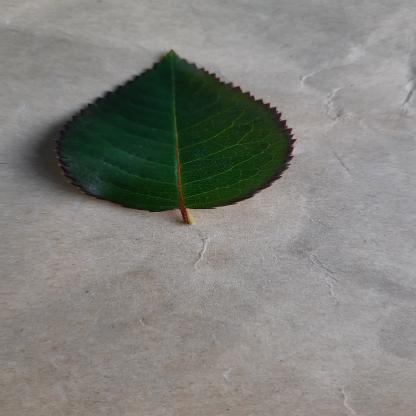normal: (54, 50, 298, 212)
